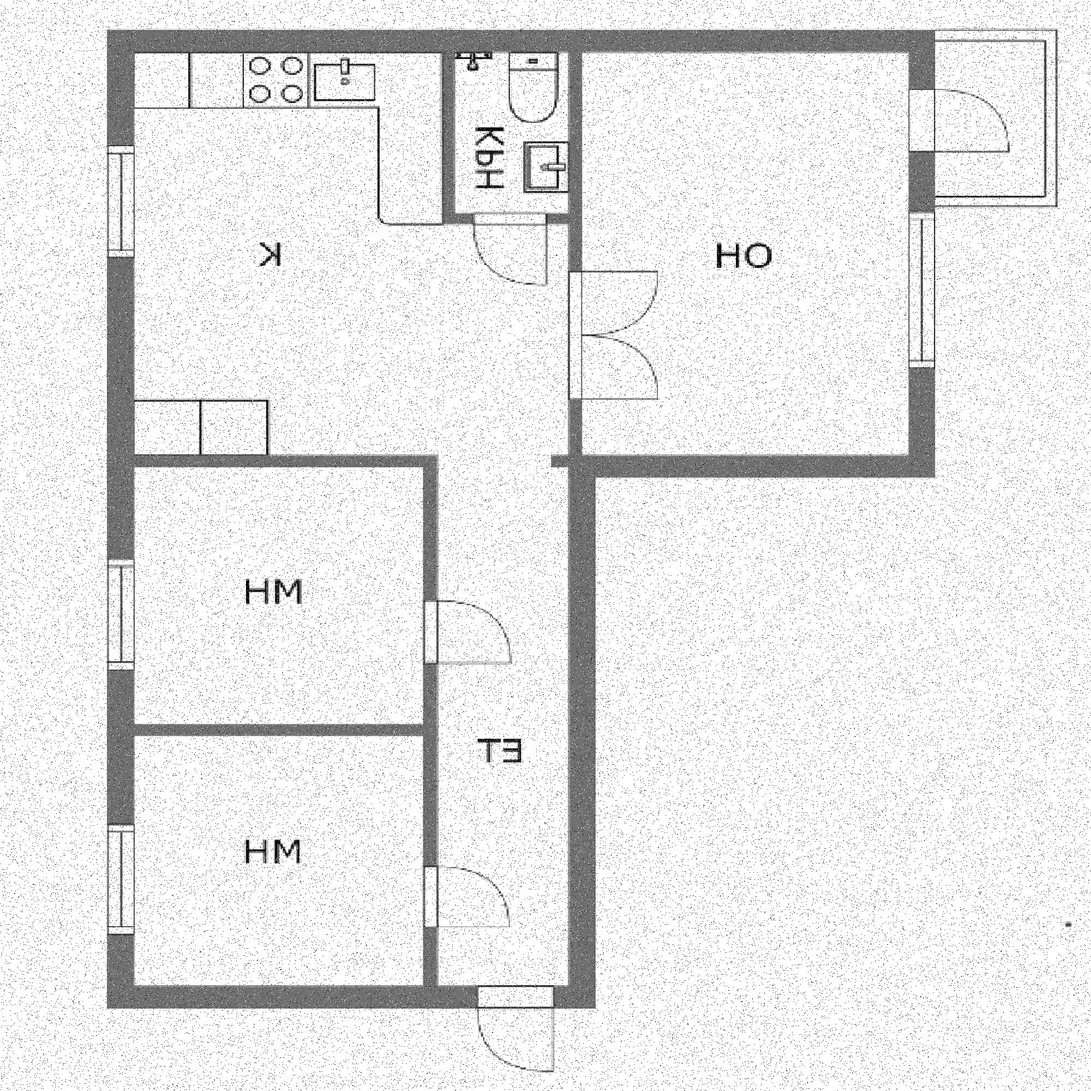wall: (107, 29, 134, 1007), (107, 29, 936, 53), (568, 455, 595, 1008), (909, 30, 936, 477), (108, 985, 595, 1007), (568, 455, 935, 478), (424, 455, 438, 1008), (568, 30, 583, 477), (107, 455, 438, 467), (107, 724, 438, 736), (441, 30, 455, 225), (442, 213, 583, 225), (551, 455, 594, 467)
